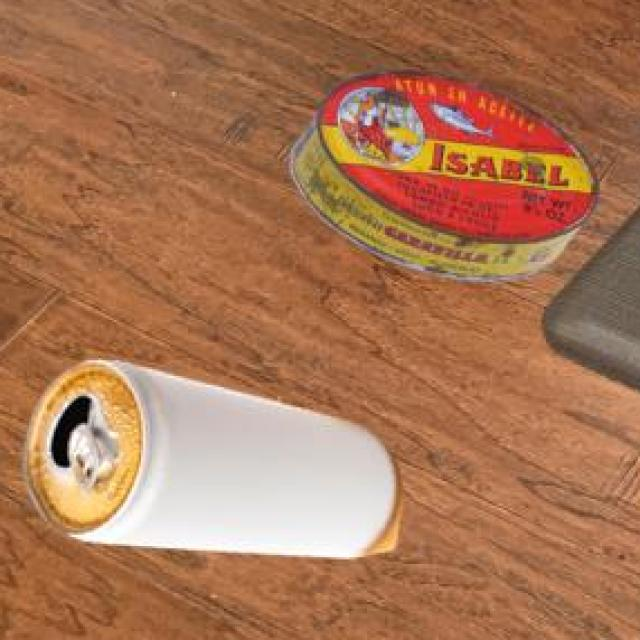logam: (21, 357, 399, 554), (288, 66, 596, 279)
